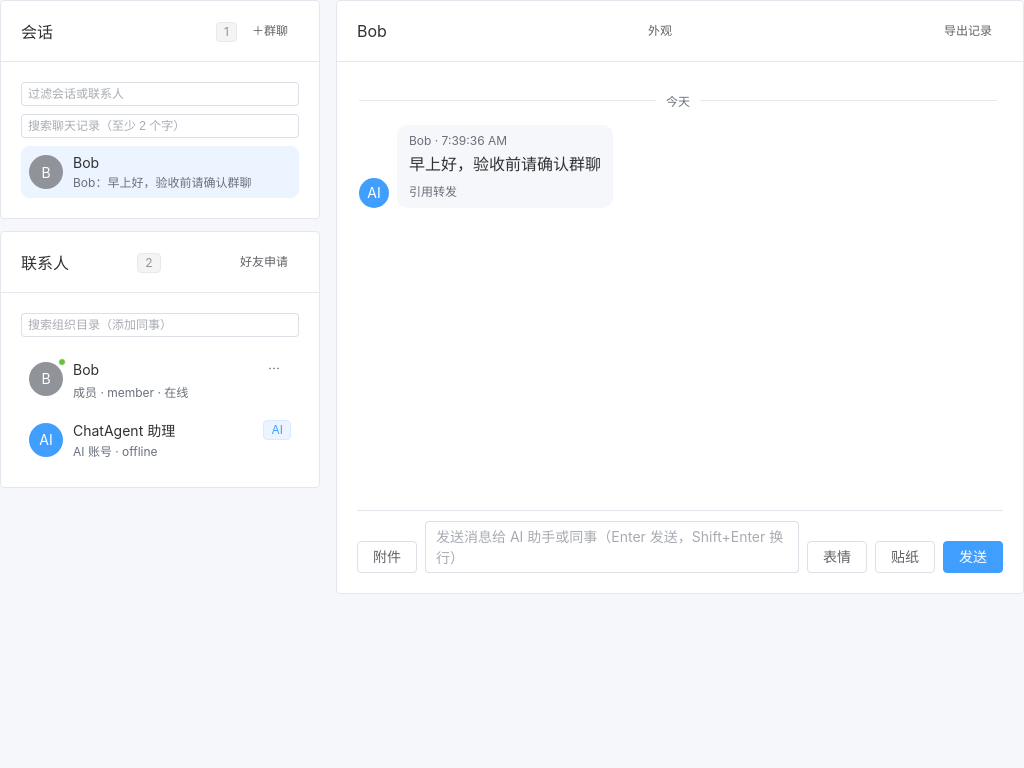
Test: ChatView › explains that an assistant message is queued until the recall window ends
This screenshot has width=1024, height=768.
Step 1. Type "@助手 汇总本周进展" into the text box with placeholder "发送消息给 AI 助手或同事（Enter 发送，Shift+Enter 换行）" → (612, 547), box [425, 521, 799, 573]
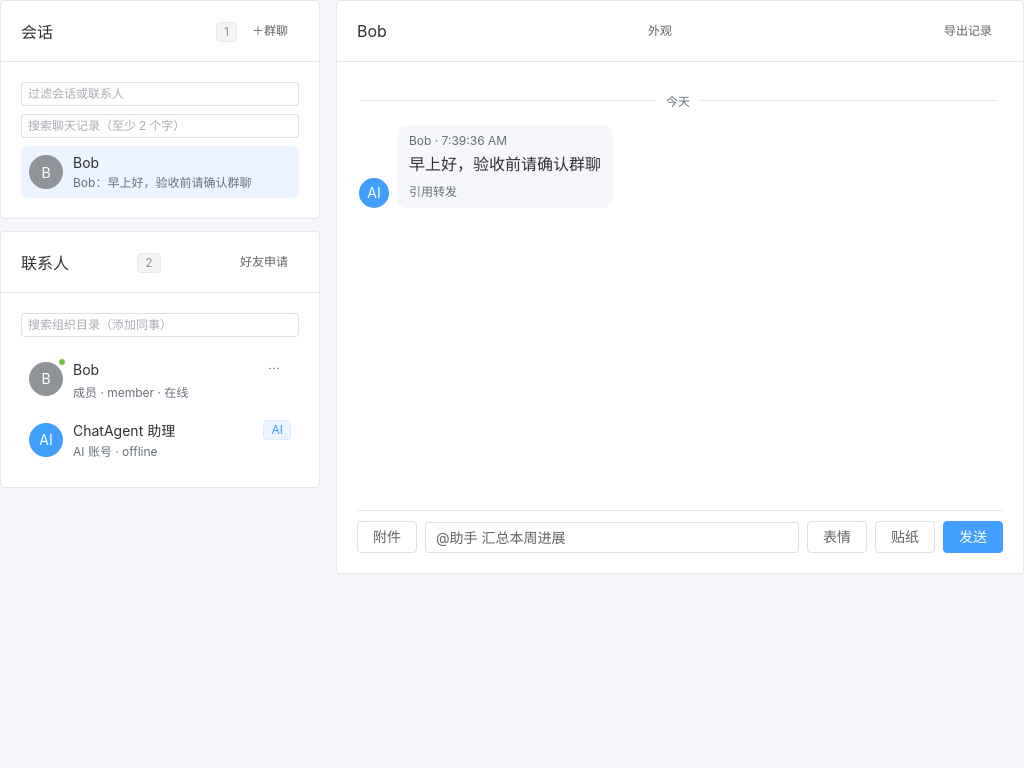
Step 2. Click the button "发送" → (973, 537), box [943, 521, 1003, 553]
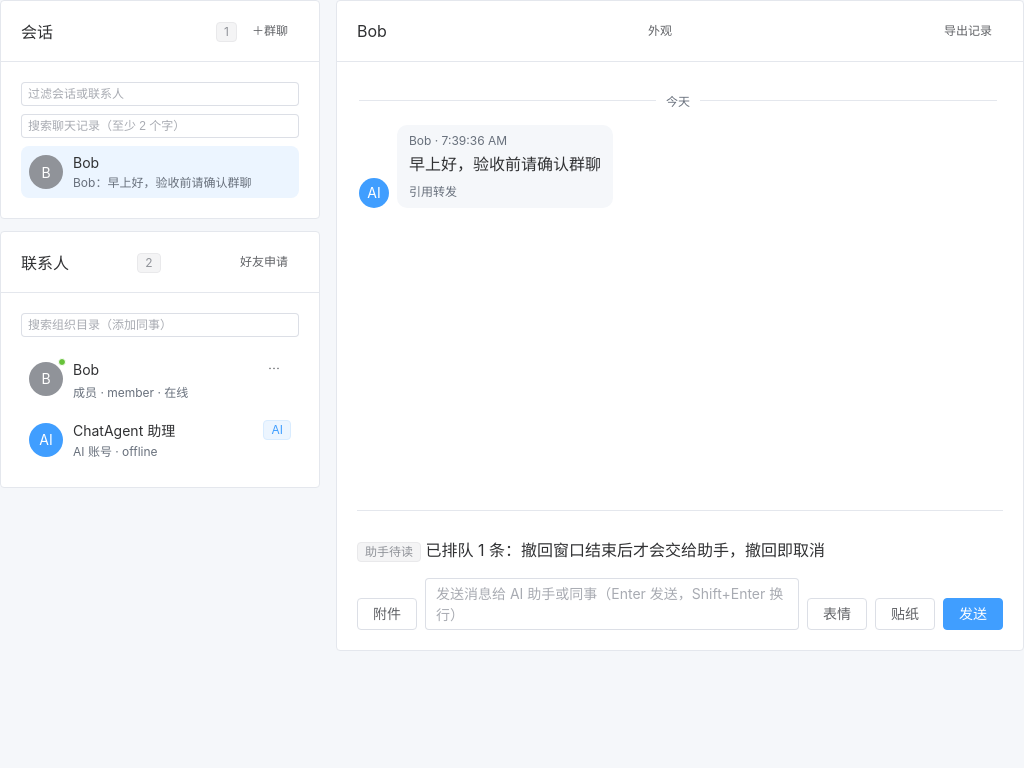
Now the element with test id "intake-notice" is shown, box [357, 540, 825, 562]
Now the element with test id "intake-notice" shows "撤回窗口结束后才会交给助手", box [421, 540, 825, 560]
Now the element with test id "intake-notice" shows "撤回即取消", box [421, 540, 825, 560]
